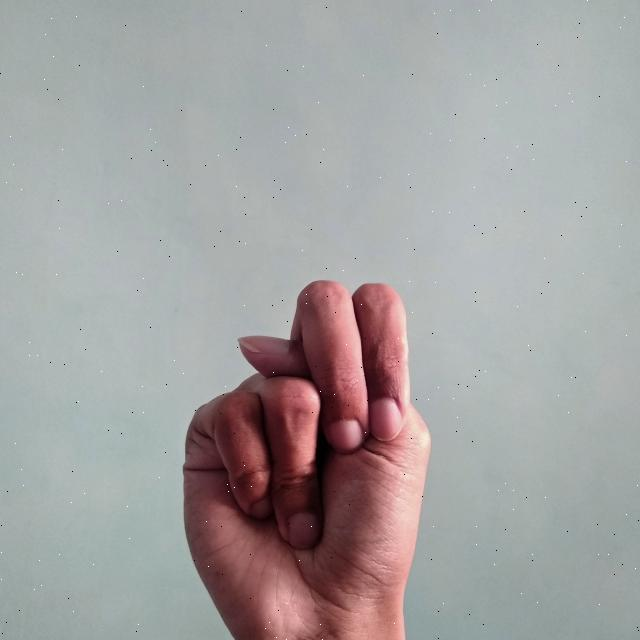N: (178, 273, 436, 640)
